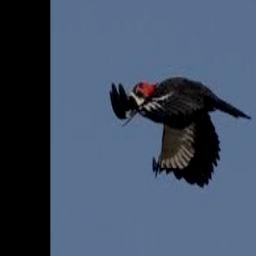Woodpecker: (110, 76, 253, 188)
